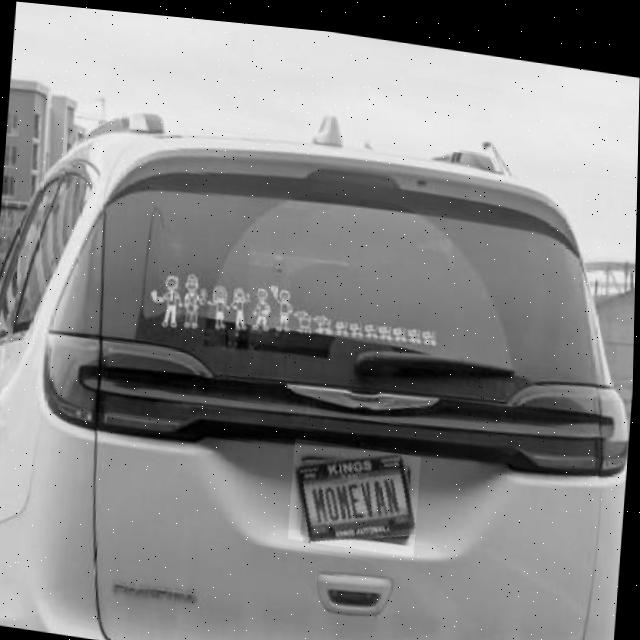LicensePlate: (295, 446, 418, 536)
